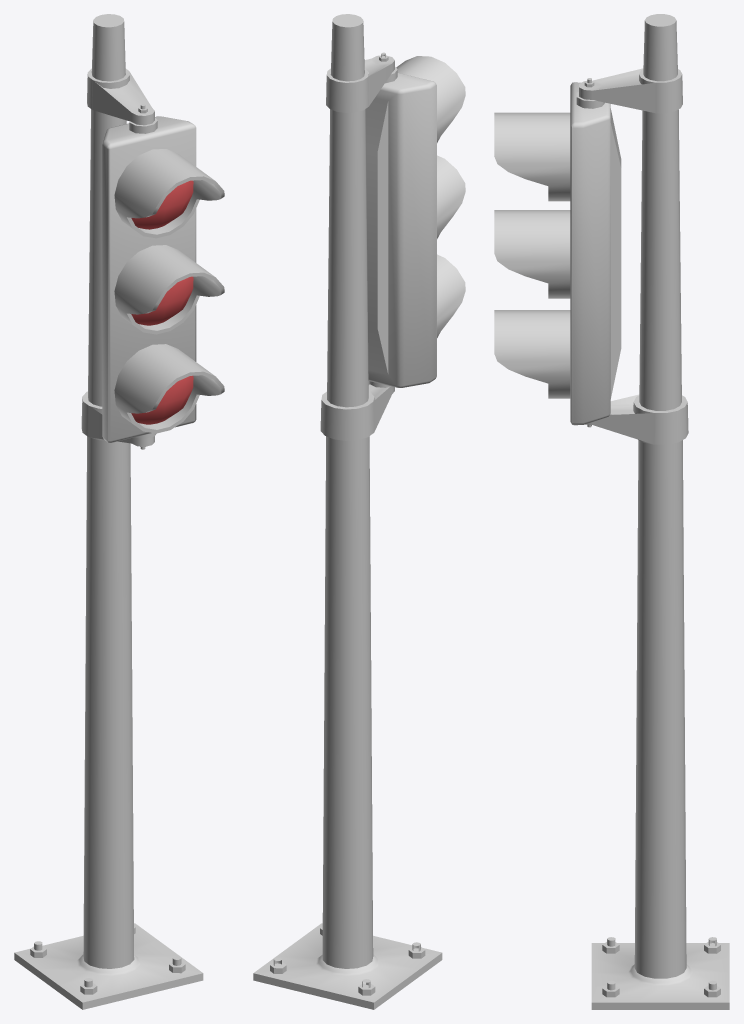
File: smallTrafficLight.fbx
3 views of the same model, side by side, from view 1: azimuth 30°, elevation 25°; view 2: azimuth 150°, elevation 25°; view 3: azimuth 270°, elevation 25° (orthographic).
Parts seen in each view (by area): view 1: Cylinder.003; view 2: Cylinder.003; view 3: Cylinder.003.
Boxes of the visible parts, x1,y1,x2,y2 form: Cylinder.003: (14,14,224,1009); Cylinder.003: (253,14,465,1009); Cylinder.003: (494,14,729,1009).
Size of the model in its own units: 37.71 by 284 by 63.04.
